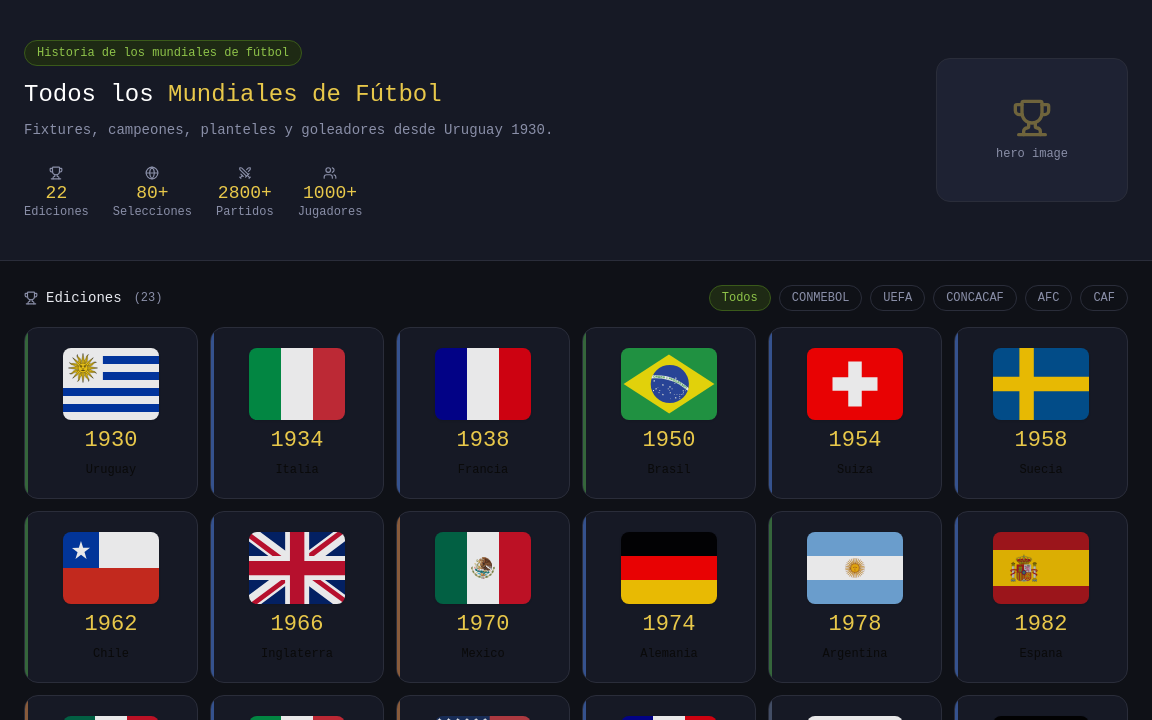
Test: ChampionshipsPage › incluye mundiales multi-sede al filtrar por su confederacion
Click the button "CONCACAF" at x=975, y=298, box [933,285,1017,311]
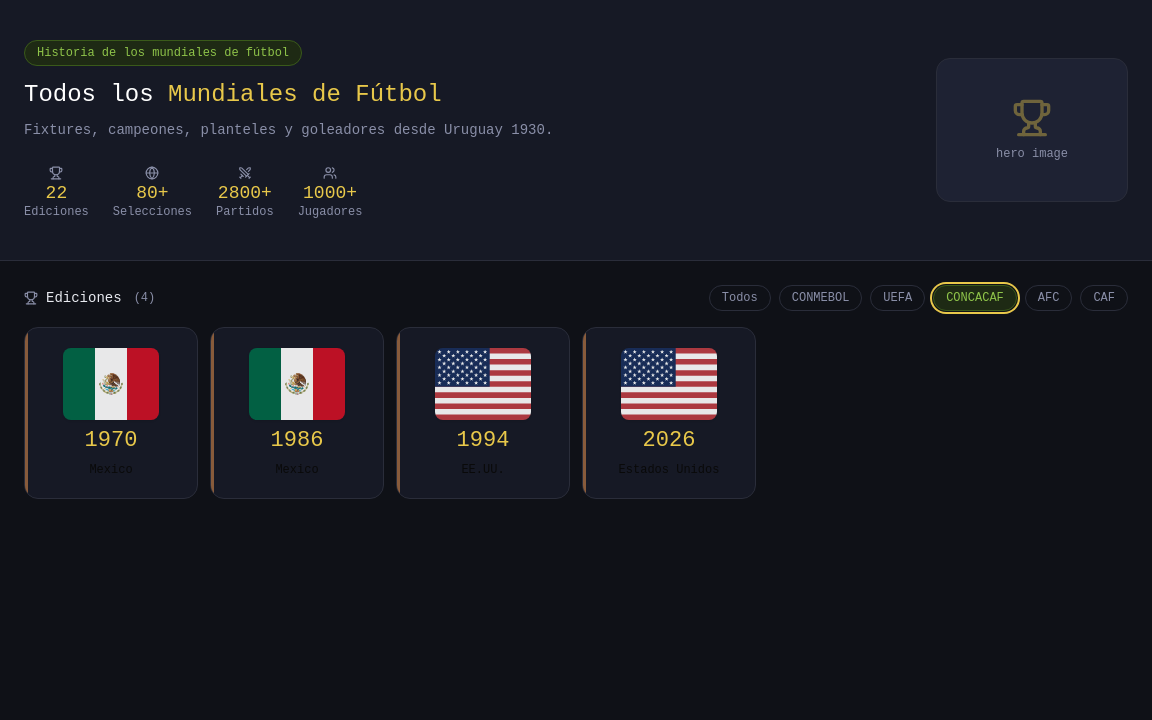
Check: the link "2026 Estados Unidos" is shown, box [582,327,756,499]
Check: the heading "Ediciones (4)" is shown, box [24,288,155,308]
